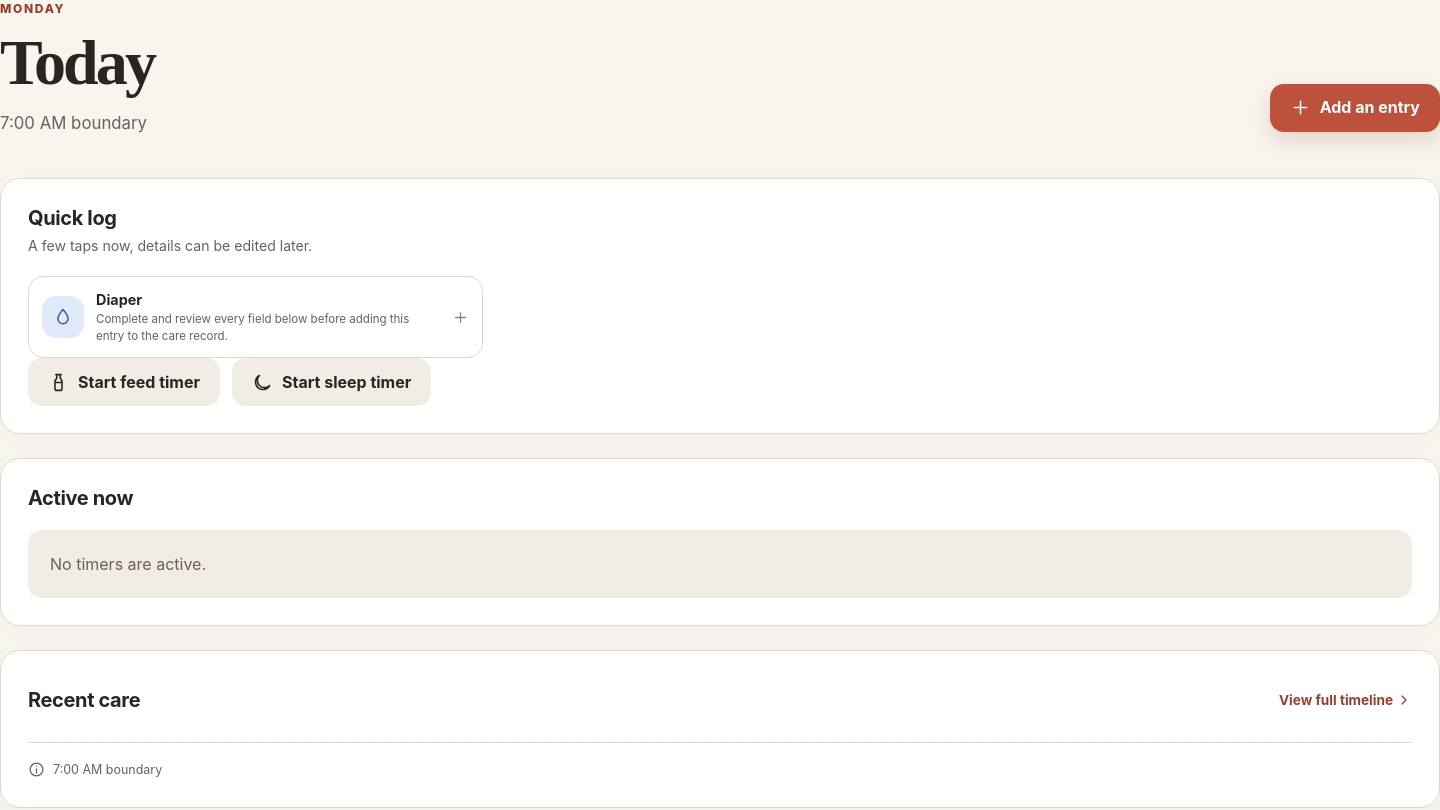
Test case: controller-driven experience views › cancels a complete quick-log draft without writing and restores focus
Click the button "Diaper": {"x": 255, "y": 317} 28,276 -> 483,358
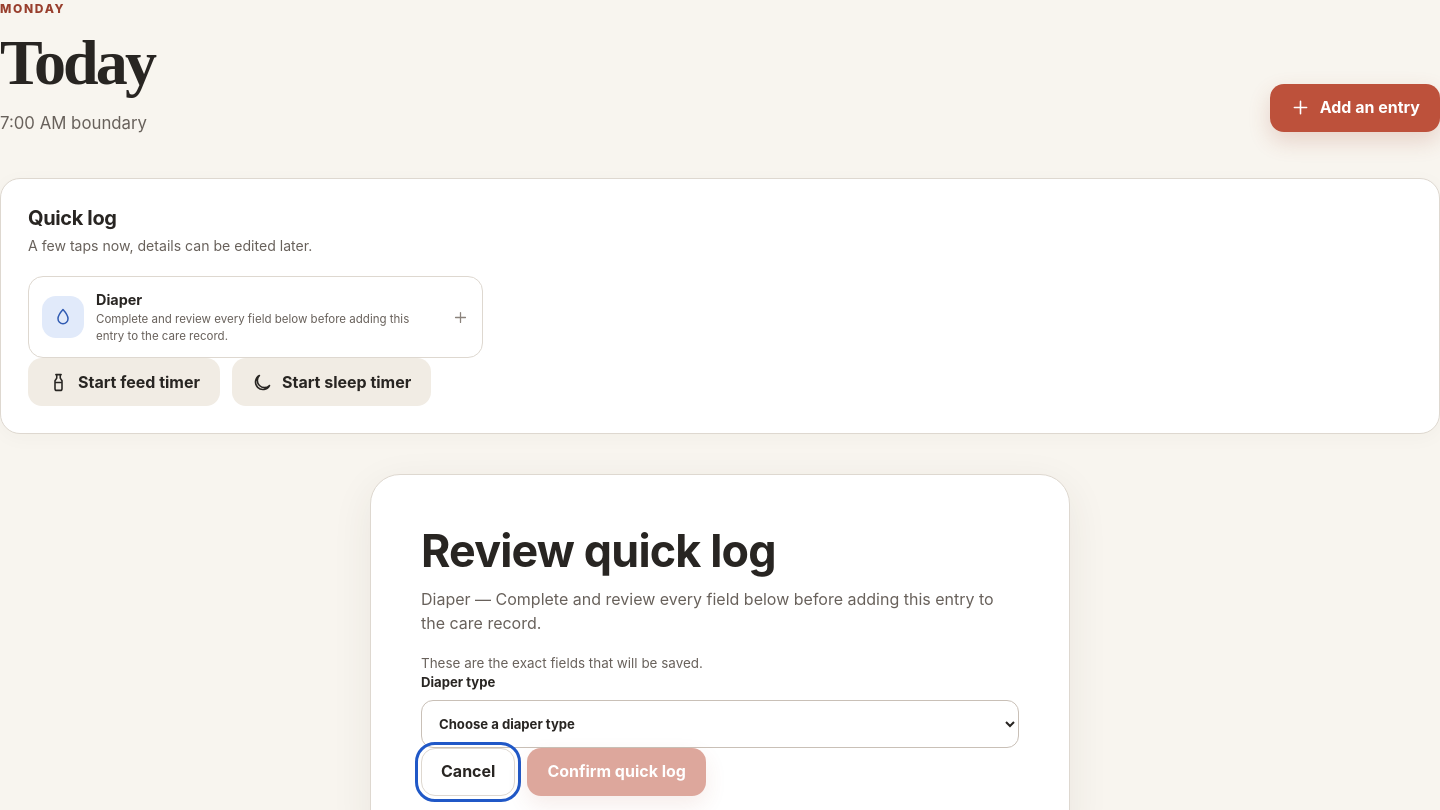
Select "Wet" in the dropdown labelled "Diaper type": {"x": 720, "y": 724} 421,700 -> 1019,748
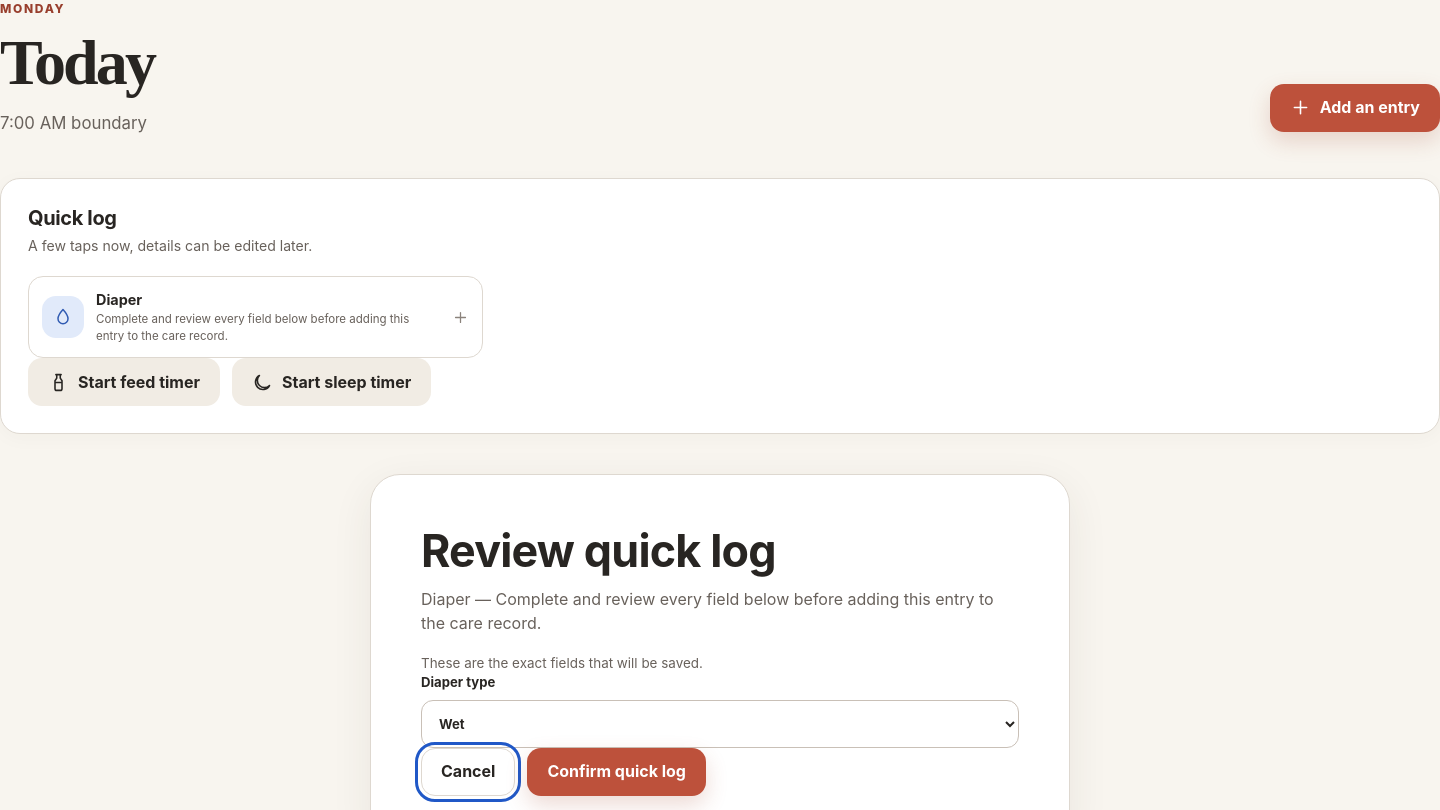
Press Escape
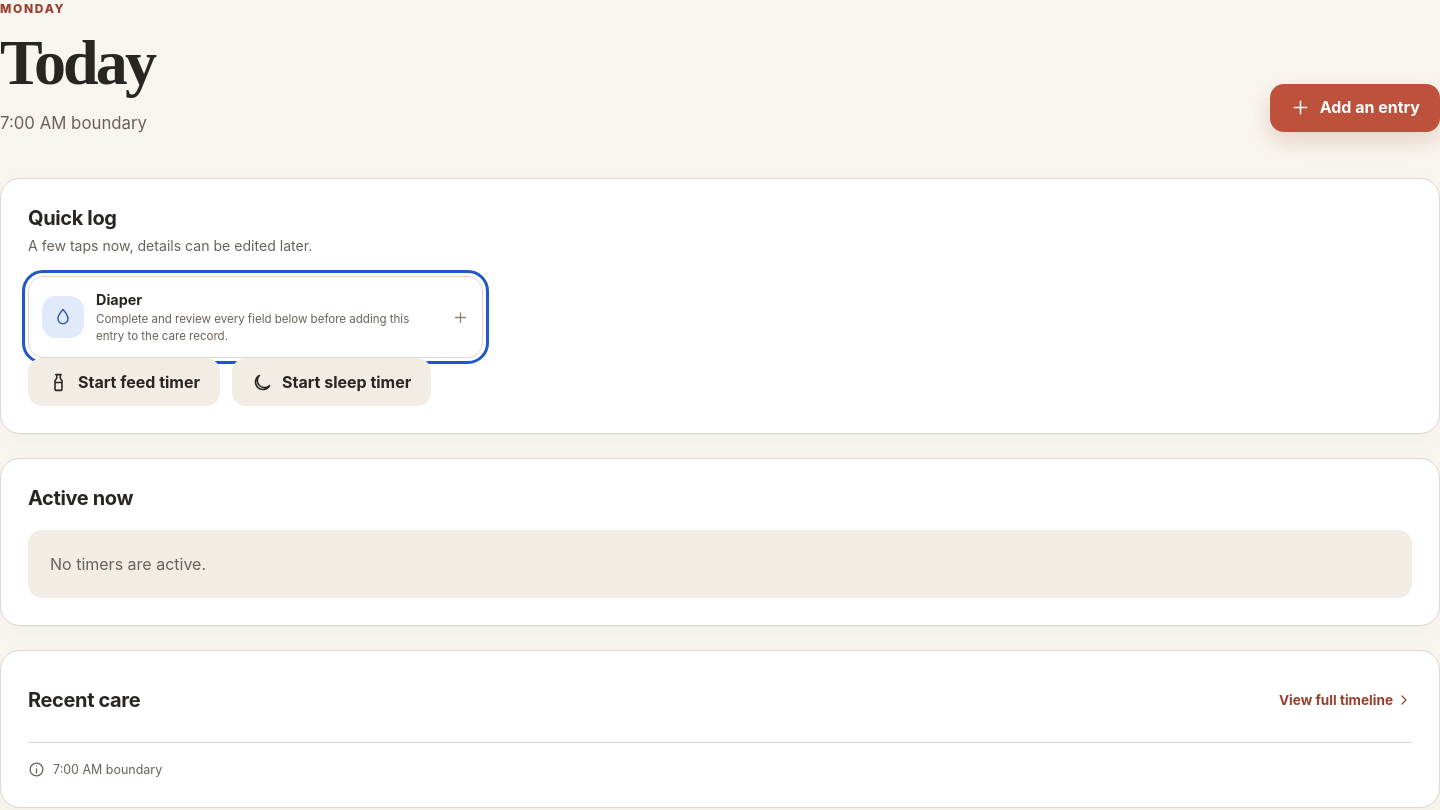
Result: the heading "Review quick log" is gone
